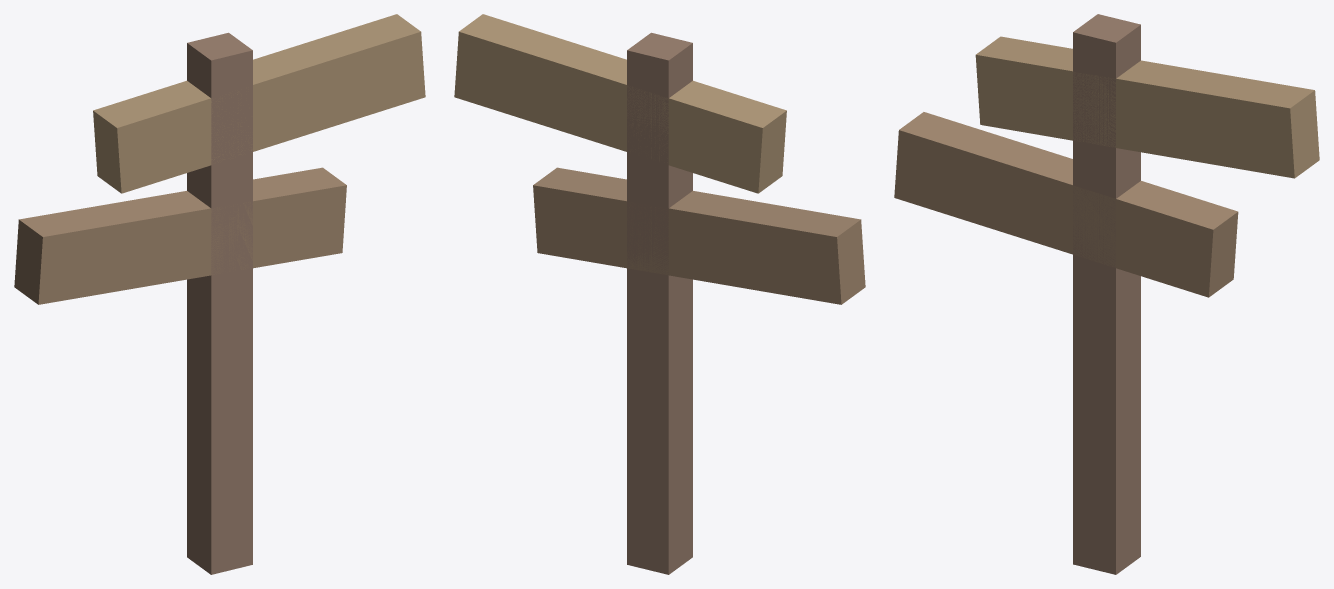
3 renders of one model, left to right at view 1: azimuth 30°, elevation 25°; view 2: azimuth 150°, elevation 25°; view 3: azimuth 330°, elevation 25°, orthographic. The views are drawn at different scales.
Parts seen in each view (by area): view 1: P01; view 2: P01; view 3: P01.
Part boxes in pixels (bbox=[...]): P01: bbox=[14, 14, 425, 574]; P01: bbox=[454, 14, 865, 574]; P01: bbox=[894, 14, 1319, 574].
Bounding box in the file's own units: 0.7876 × 1 × 0.085.
